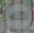Heavy Vehicles: (2, 0, 33, 30)
